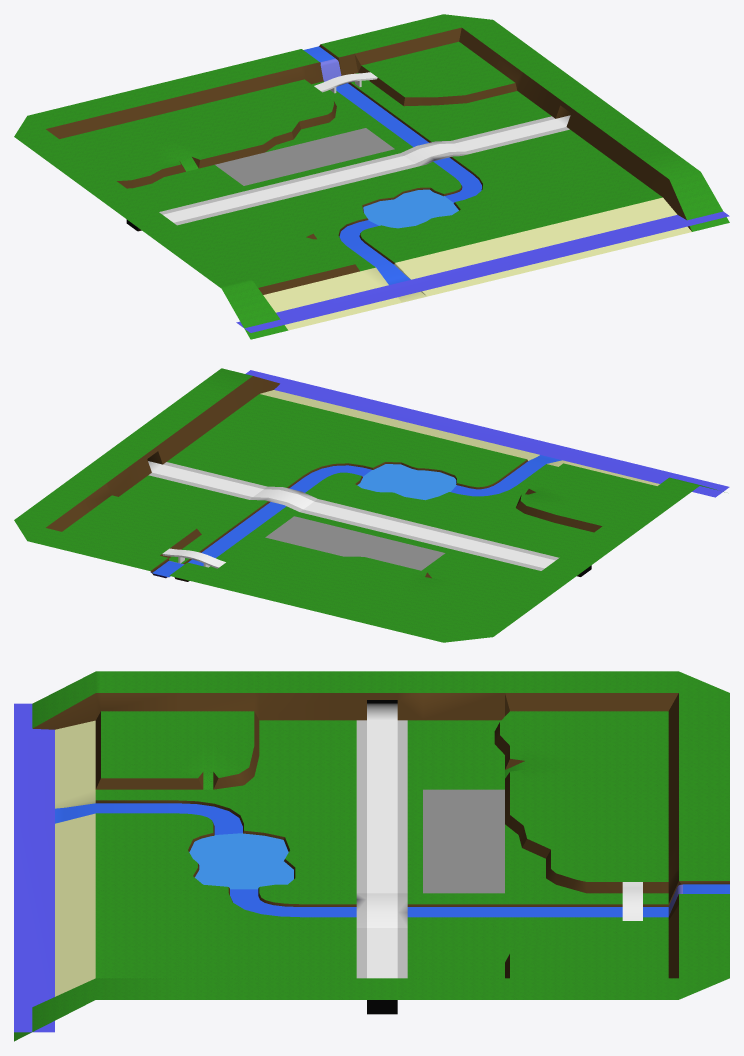
File: world.fbx
3 views of the same model, one above another, from view 1: azimuth 30°, elevation 25°; view 2: azimuth 150°, elevation 25°; view 3: azimuth 270°, elevation 25° (orthographic). The views are drawn at different scales.
Visible parts, largest first — view 1: island-8x7-grass-col, island-8x7-cliff-col, island-8x7_water-col, island-8x7-sand-col, island-8x7-road-col, island-8x7-city-col, island-8x7-sidewalk-col; view 2: island-8x7-grass-col, island-8x7_water-col, island-8x7-cliff-col, island-8x7-road-col, island-8x7-city-col, island-8x7-sidewalk-col, island-8x7-sand-col; view 3: island-8x7-grass-col, island-8x7_water-col, island-8x7-cliff-col, island-8x7-sand-col, island-8x7-road-col, island-8x7-city-col, island-8x7-sidewalk-col.
Boxes of the visible parts, x1,y1,x2,y2 form: island-8x7-grass-col: [14, 14, 729, 339]; island-8x7-cliff-col: [46, 27, 691, 294]; island-8x7_water-col: [236, 46, 729, 332]; island-8x7-sand-col: [263, 197, 691, 330]; island-8x7-road-col: [163, 72, 570, 222]; island-8x7-city-col: [215, 128, 394, 185]; island-8x7-sidewalk-col: [159, 116, 569, 225]; island-8x7-grass-col: [14, 368, 724, 642]; island-8x7_water-col: [150, 370, 729, 577]; island-8x7-cliff-col: [46, 376, 602, 581]; island-8x7-road-col: [148, 461, 555, 568]; island-8x7-city-col: [265, 516, 445, 570]; island-8x7-sidewalk-col: [148, 462, 559, 570]; island-8x7-sand-col: [260, 390, 659, 485]; island-8x7-grass-col: [14, 671, 729, 1041]; island-8x7_water-col: [14, 703, 729, 1032]; island-8x7-cliff-col: [33, 693, 729, 978]; island-8x7-sand-col: [55, 720, 95, 996]; island-8x7-road-col: [367, 703, 642, 978]; island-8x7-city-col: [423, 789, 504, 893]; island-8x7-sidewalk-col: [356, 720, 407, 978].
Size of what is drawn, in the model's own units: 4864 by 288 by 4480.
